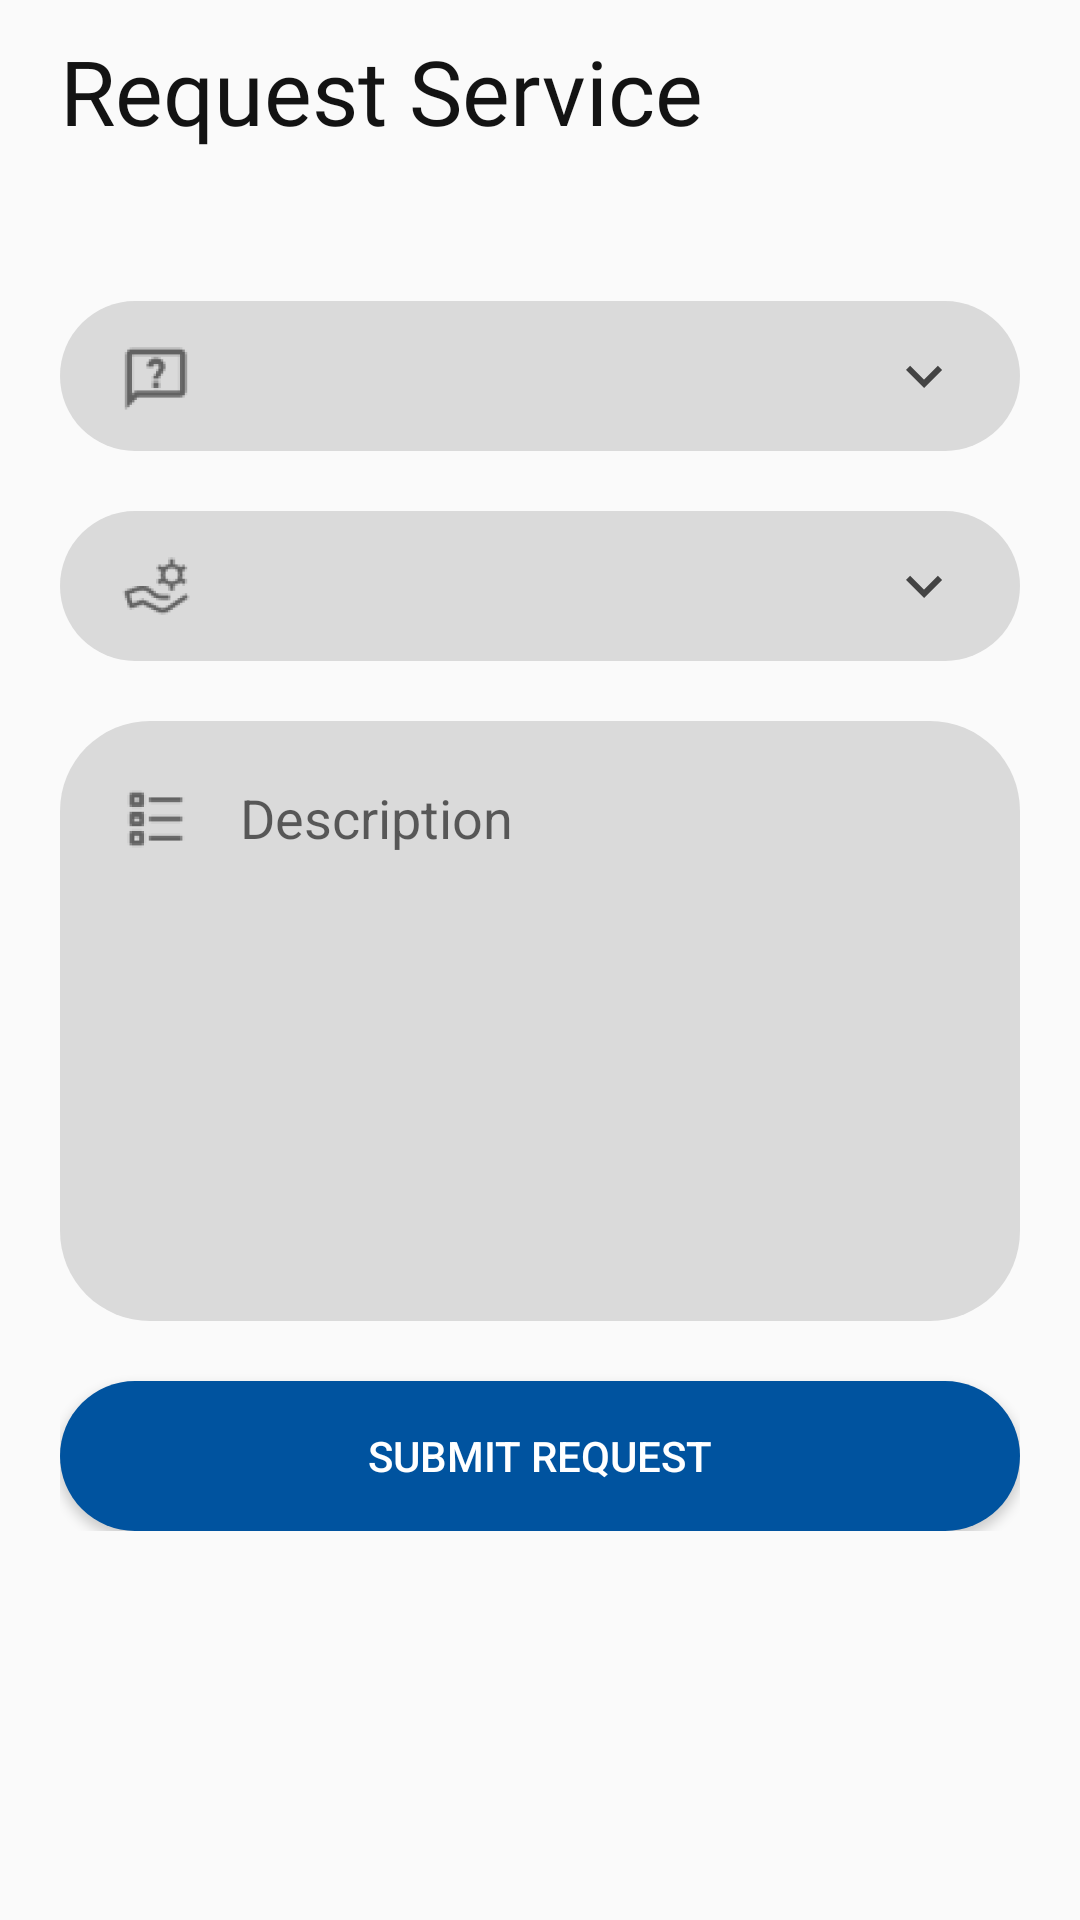

Where to tap for icons on this 1080*1920 app screen, as point (x, y):
keyboard arrow down: point (954, 376), point (954, 586)
question: point (126, 376)
service: point (126, 586)
